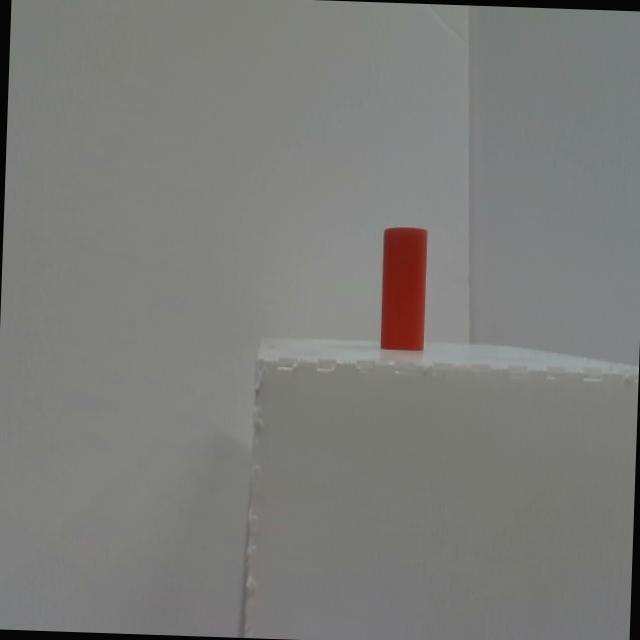red_cylinder: (380, 227, 428, 351)
